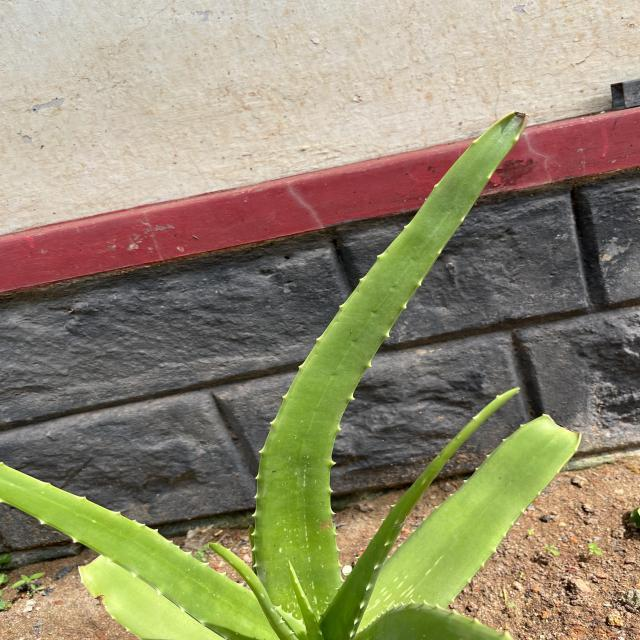Aloe vera: (250, 105, 536, 607)
